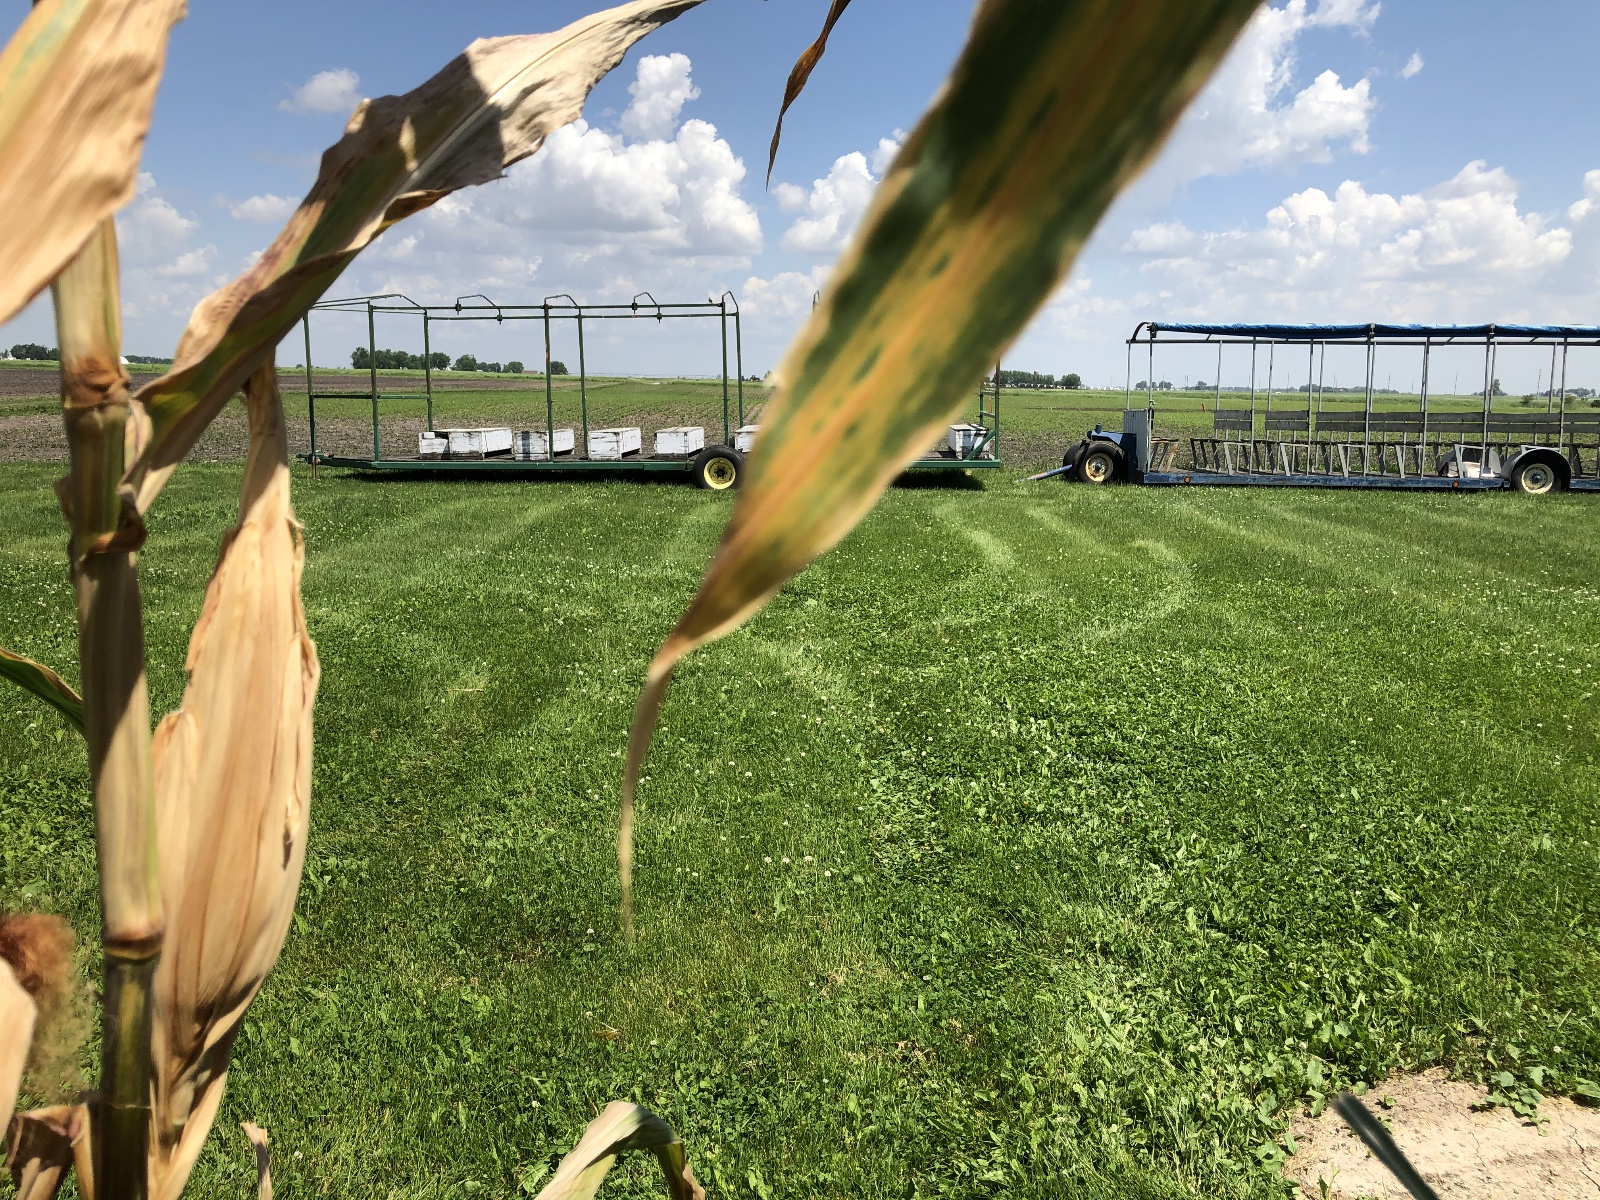ear: (137, 449, 323, 1008), (1, 897, 84, 1124)
